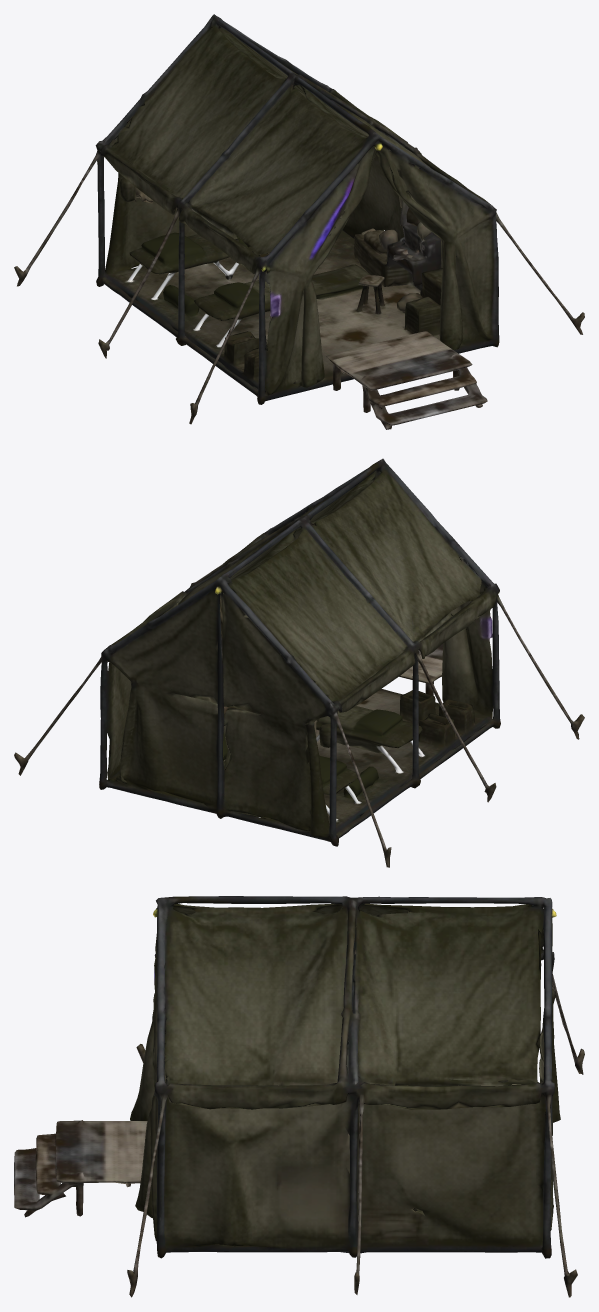
File: dzn-squad-bivouac-for-a-realistic-isometric-3d-survival-strategy-game-one-open-s.glb
3 views of the same model, one above another, from view 1: azimuth 30°, elevation 25°; view 2: azimuth 150°, elevation 25°; view 3: azimuth 270°, elevation 25° (orthographic). The views are drawn at different scales.
Visible parts, largest first — view 1: world; view 2: world; view 3: world.
Boxes of the visible parts, x1,y1,x2,y2 form: world: (14,14,584,429); world: (14,458,584,867); world: (14,896,584,1297).
Bounding box in the file's own units: 0.958 × 0.5667 × 1.
1 material, 1 textured.
